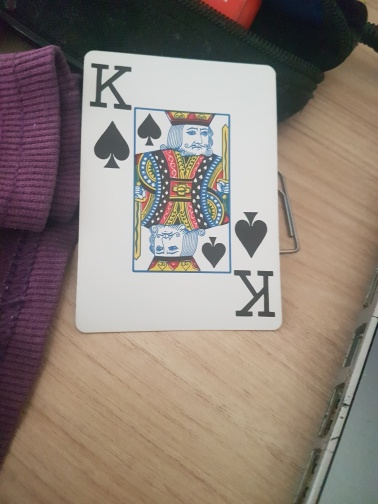king: (76, 52, 283, 333)
